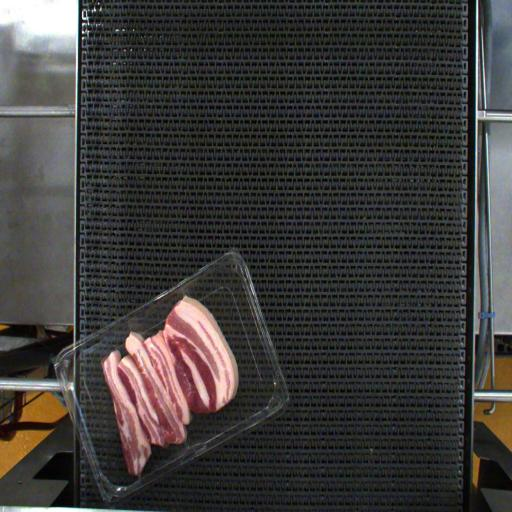packaging-error: (123, 310, 147, 342), (173, 280, 196, 308)
